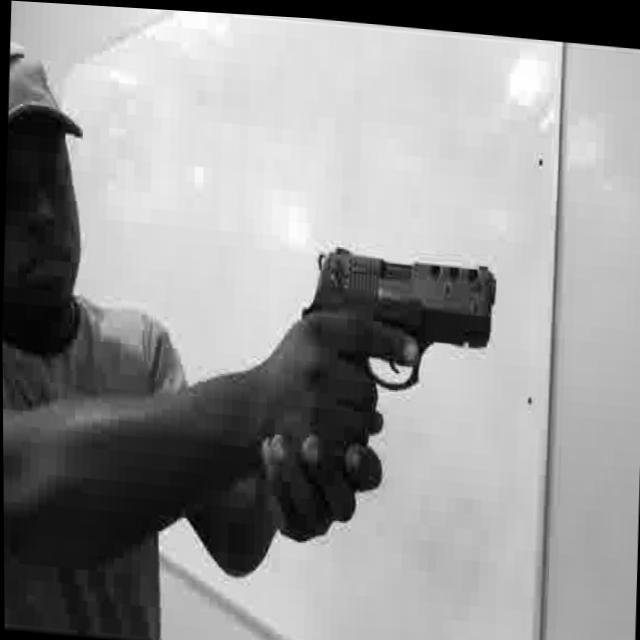weapon: (292, 236, 498, 403)
